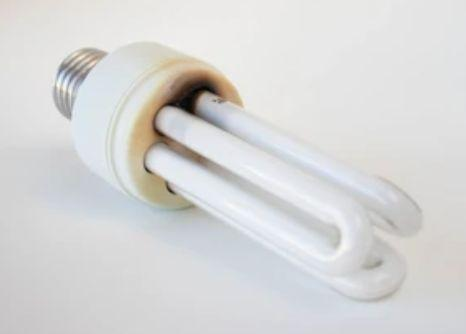light bulb: (49, 36, 430, 310)
